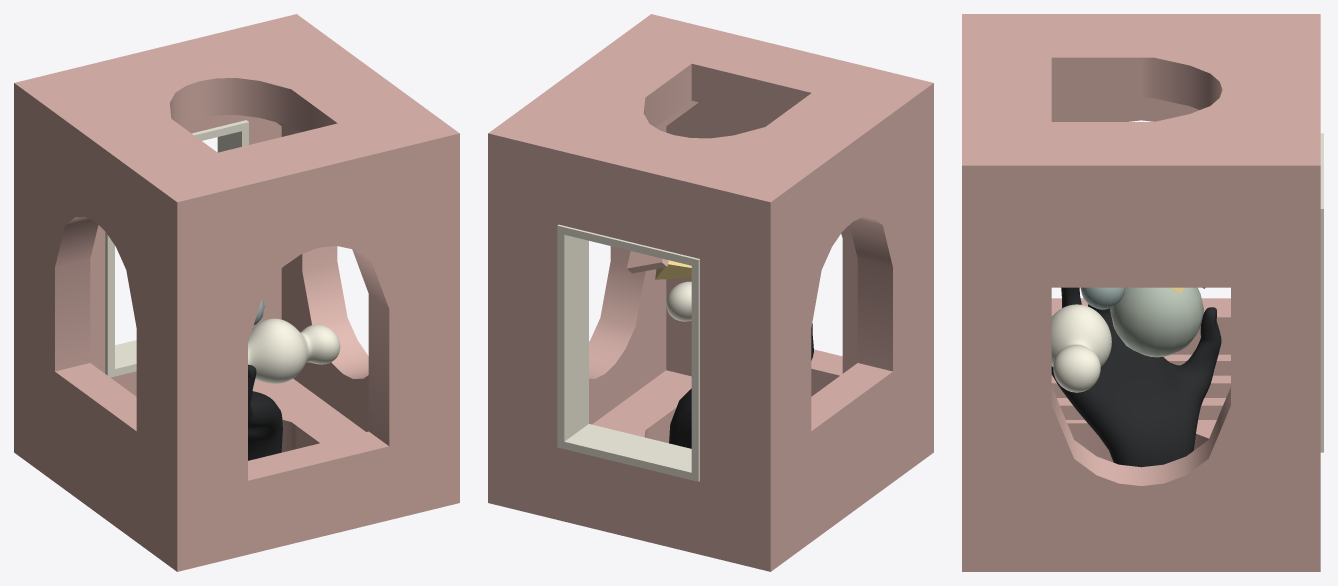
The model's file is Owe Ragnar Martirez Room.glb.
The picture shows the model from 3 angles, left to right: view 1: azimuth 30°, elevation 25°; view 2: azimuth 150°, elevation 25°; view 3: azimuth 270°, elevation 25°; orthographic projection. The views are drawn at different scales.
Parts seen in each view (by area): view 1: room, Sphere.002, window, Hand; view 2: room, window, Hand, Sphere.002, Cube; view 3: room, Hand, Sphere, Sphere.002, stair, window, Sphere.001.
Boxes of the visible parts, <box> form: room: <box>14,14,459,571</box>; Sphere.002: <box>248,318,340,383</box>; window: <box>105,120,248,377</box>; Hand: <box>248,364,282,460</box>; room: <box>488,14,933,571</box>; window: <box>557,224,699,481</box>; Hand: <box>669,323,813,448</box>; Sphere.002: <box>666,281,691,321</box>; Cube: <box>626,251,668,273</box>; room: <box>962,14,1320,571</box>; Hand: <box>1051,287,1221,467</box>; Sphere: <box>1110,287,1204,357</box>; Sphere.002: <box>1051,304,1111,392</box>; stair: <box>1051,354,1230,419</box>; window: <box>1320,133,1323,452</box>; Sphere.001: <box>1080,287,1125,309</box>.
Size of the model in its own units: 4 by 5.75 by 4.04.
